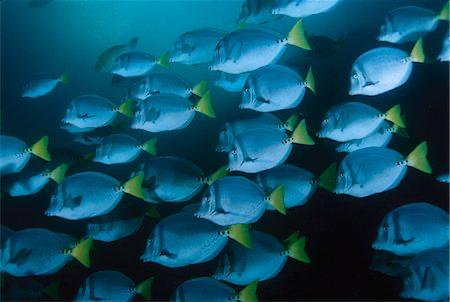Acanthuridae -Surgeonfishes-: (133, 205, 250, 269), (207, 16, 315, 75), (327, 143, 436, 199), (212, 227, 315, 282), (40, 165, 144, 218), (0, 222, 98, 278), (222, 118, 315, 172), (190, 175, 290, 223), (346, 37, 425, 95), (370, 198, 449, 255), (235, 61, 321, 111), (317, 100, 414, 139), (375, 0, 449, 45), (54, 91, 133, 129), (110, 43, 179, 78), (91, 131, 160, 158)
